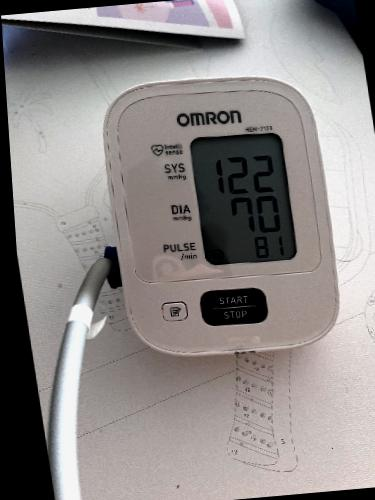bpm: (186, 125, 300, 274)
